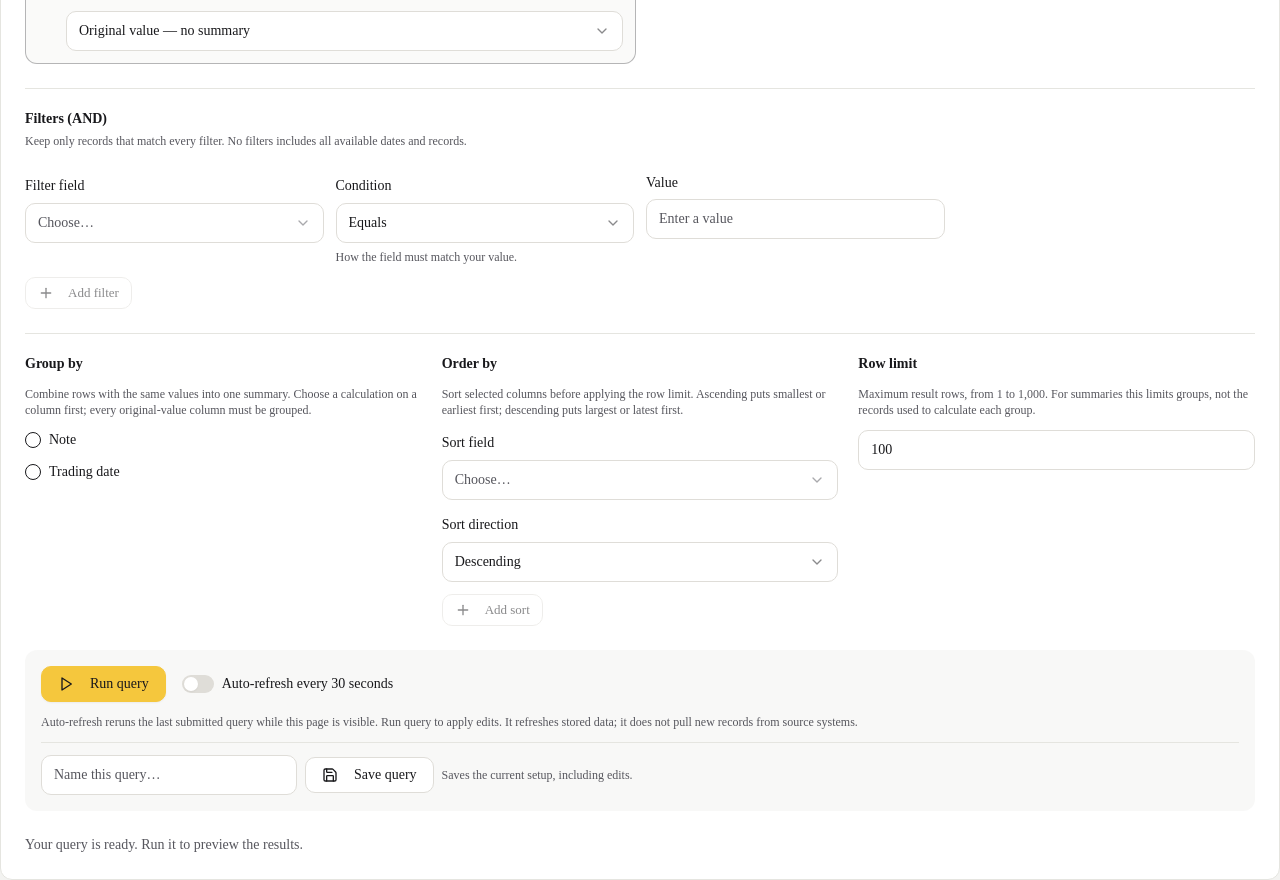
QueryBuilder › starts a new dataset using authorised required fields before nullable fields, without aggregation
(page scrolled)
Click the button "Run query". click: coordinates (103, 684)
box: [41,666,166,702]
(page scrolled)
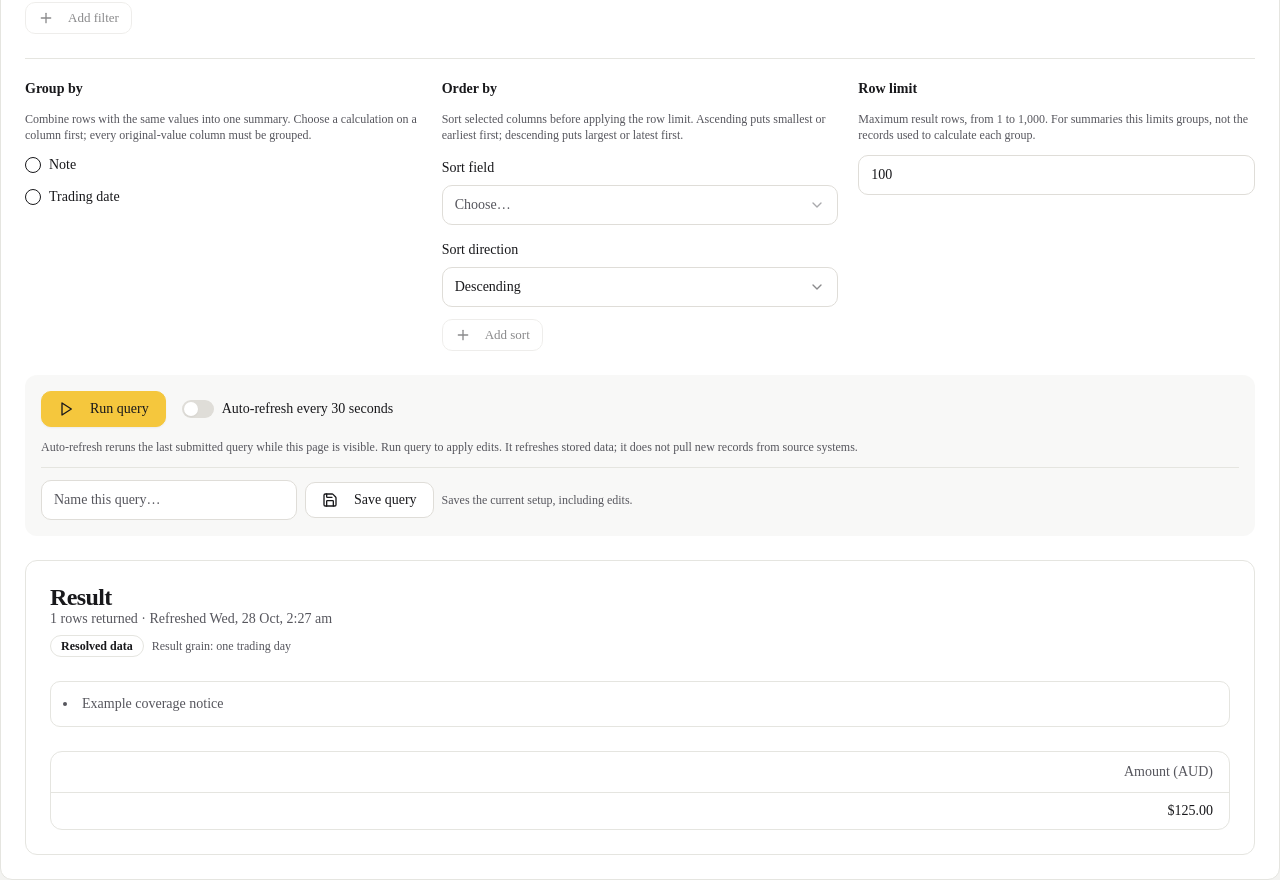
Expected: the text "Result" is shown, [50,584,112,610]
Expected: the list item "Example coverage notice" is shown, [82,696,224,711]
Expected: the text "$125.00" is shown, [51,792,1229,828]
